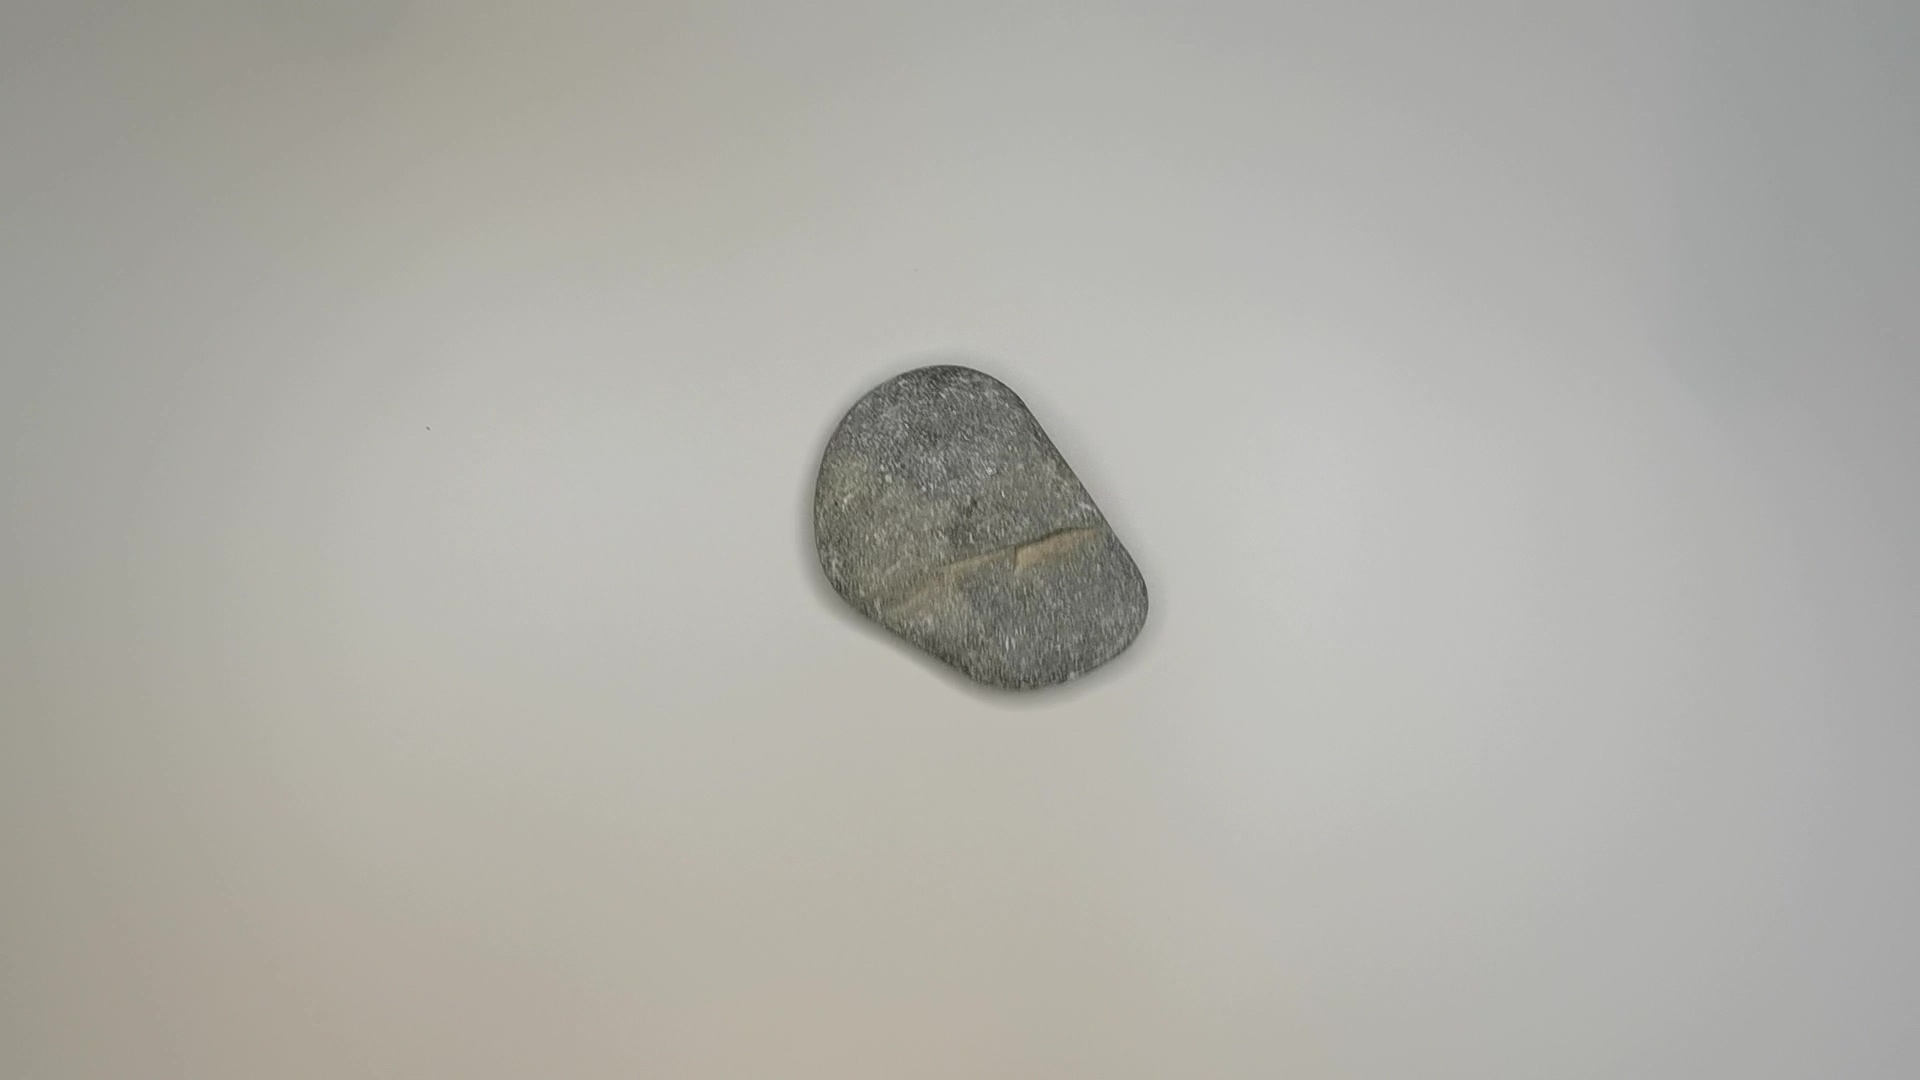ceramic: (808, 356, 1159, 709)
